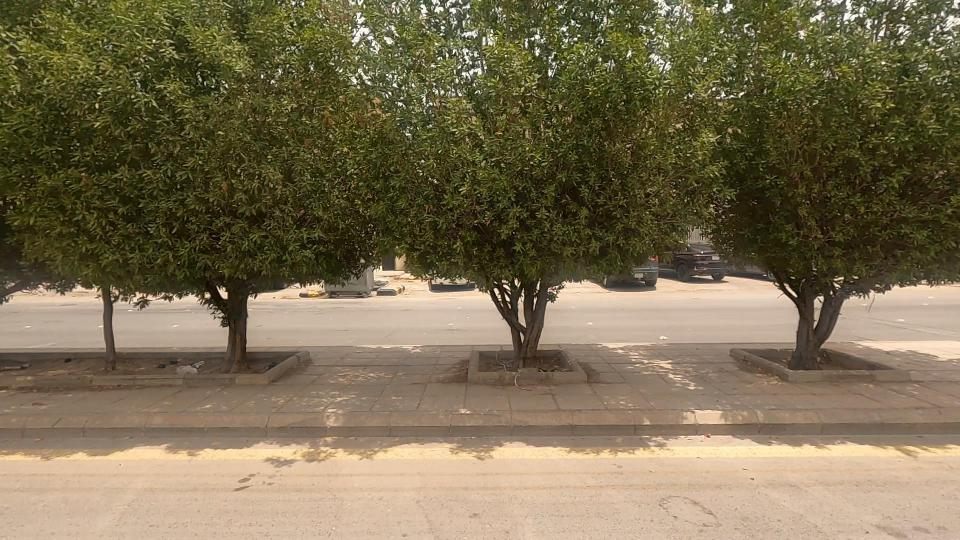GARBAGE: (128, 340, 235, 399), (43, 342, 95, 384)
